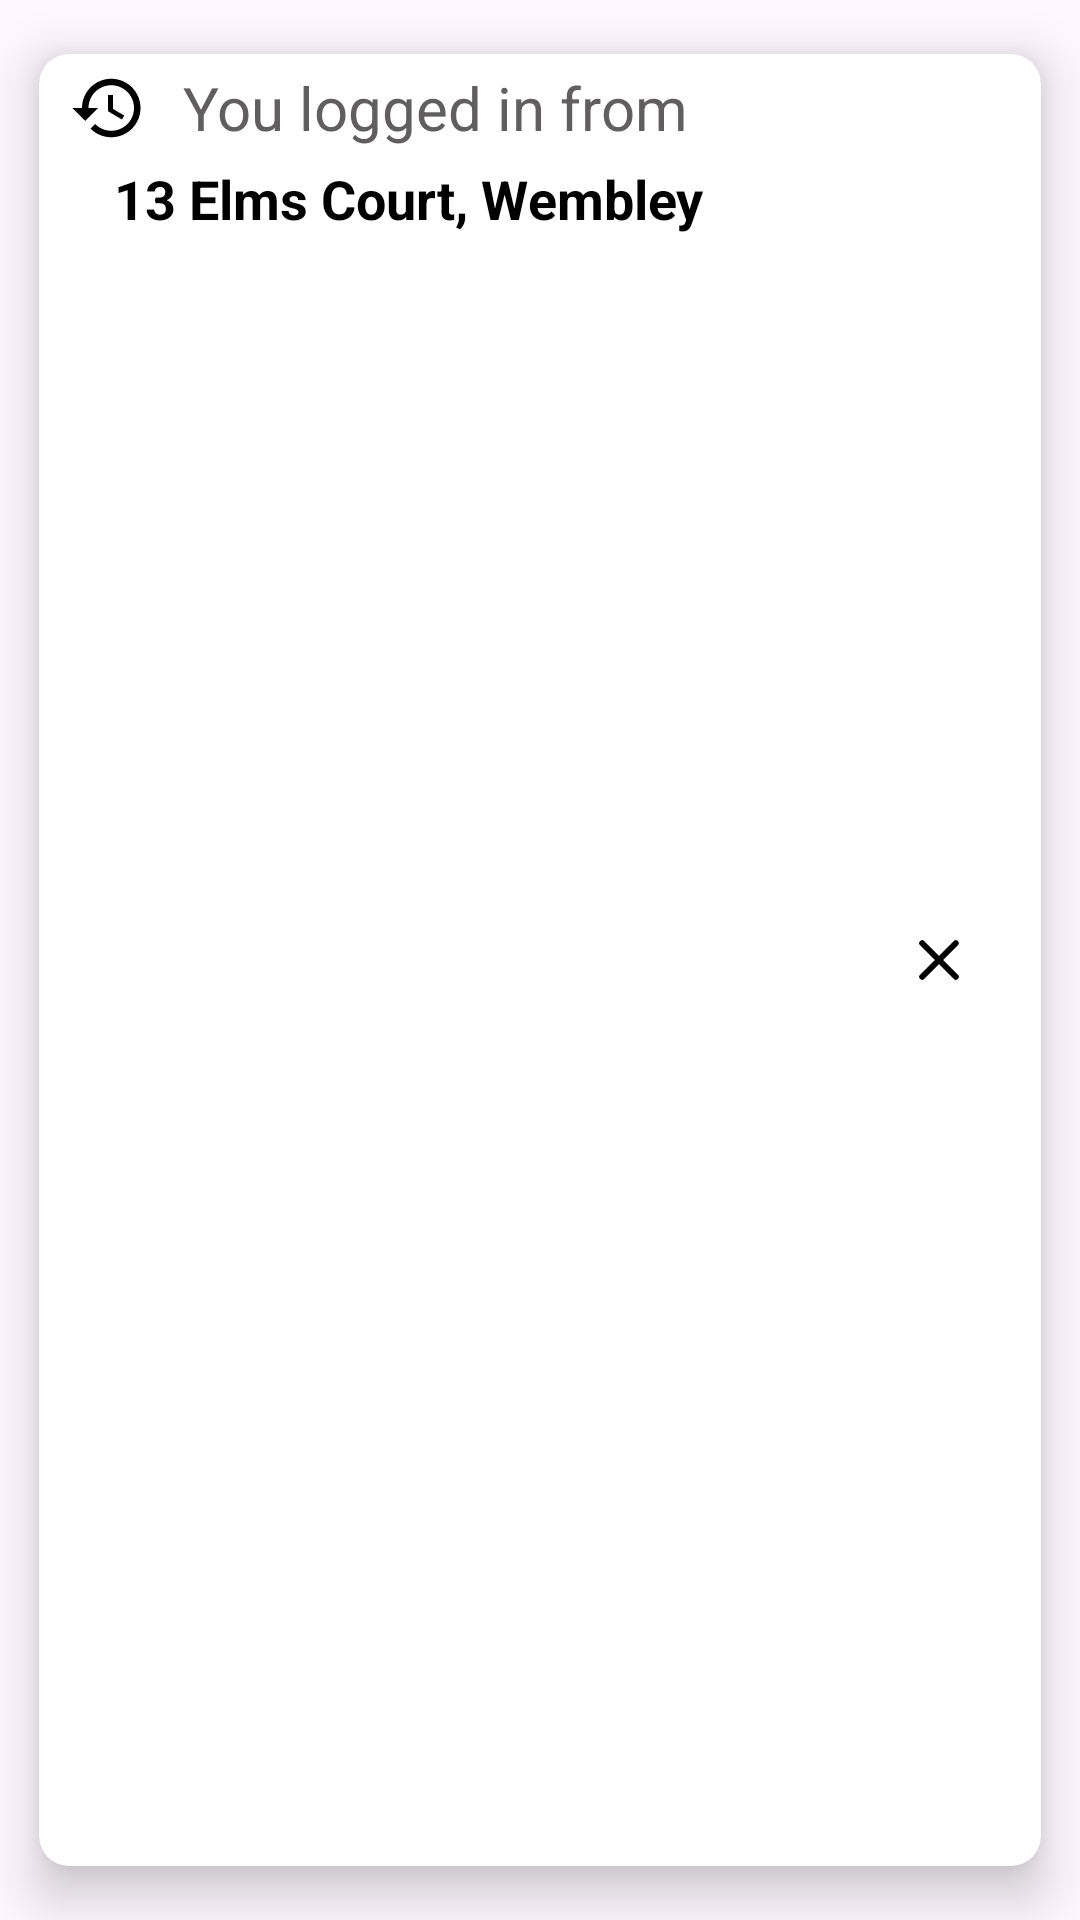

Named icons in this screenshot (1080 × 1920) and their bounding boxes, detection(x1, y1, x2, y2):
History: detection(72, 78, 141, 138)
remove history: detection(919, 940, 959, 980)
